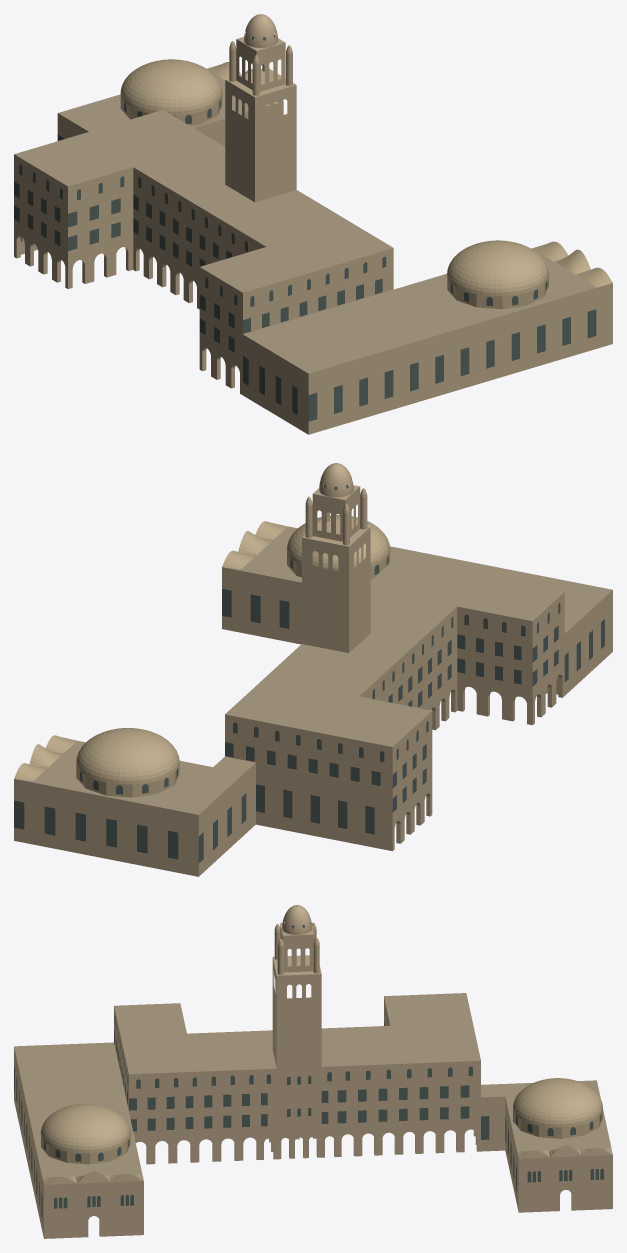
Rendered from jerusalem-ymca-near.glb.
The picture shows the model from 3 angles, top to bottom: view 1: azimuth 30°, elevation 25°; view 2: azimuth 150°, elevation 25°; view 3: azimuth 270°, elevation 25°; orthographic projection. The views are drawn at different scales.
Visible parts, largest first — view 1: jerusalem-ymca-0-stone, jerusalem-ymca-0-roof, jerusalem-ymca-0-dome, jerusalem-ymca-0-glass; view 2: jerusalem-ymca-0-stone, jerusalem-ymca-0-roof, jerusalem-ymca-0-glass, jerusalem-ymca-0-dome; view 3: jerusalem-ymca-0-stone, jerusalem-ymca-0-roof, jerusalem-ymca-0-dome, jerusalem-ymca-0-glass, jerusalem-ymca-0-rim.
Boxes of the visible parts, x1,y1,x2,y2 form: jerusalem-ymca-0-stone: (14, 14, 612, 434); jerusalem-ymca-0-roof: (14, 65, 596, 373); jerusalem-ymca-0-dome: (120, 59, 612, 309); jerusalem-ymca-0-glass: (14, 33, 596, 421); jerusalem-ymca-0-stone: (14, 463, 612, 876); jerusalem-ymca-0-roof: (17, 526, 612, 814); jerusalem-ymca-0-glass: (14, 484, 604, 863); jerusalem-ymca-0-dome: (14, 515, 390, 797); jerusalem-ymca-0-stone: (14, 905, 612, 1238); jerusalem-ymca-0-roof: (14, 993, 611, 1180); jerusalem-ymca-0-dome: (40, 1078, 612, 1184); jerusalem-ymca-0-glass: (14, 922, 603, 1218); jerusalem-ymca-0-rim: (44, 1145, 612, 1184).
Size of the model in its own units: 63.47 by 46.33 by 104.
